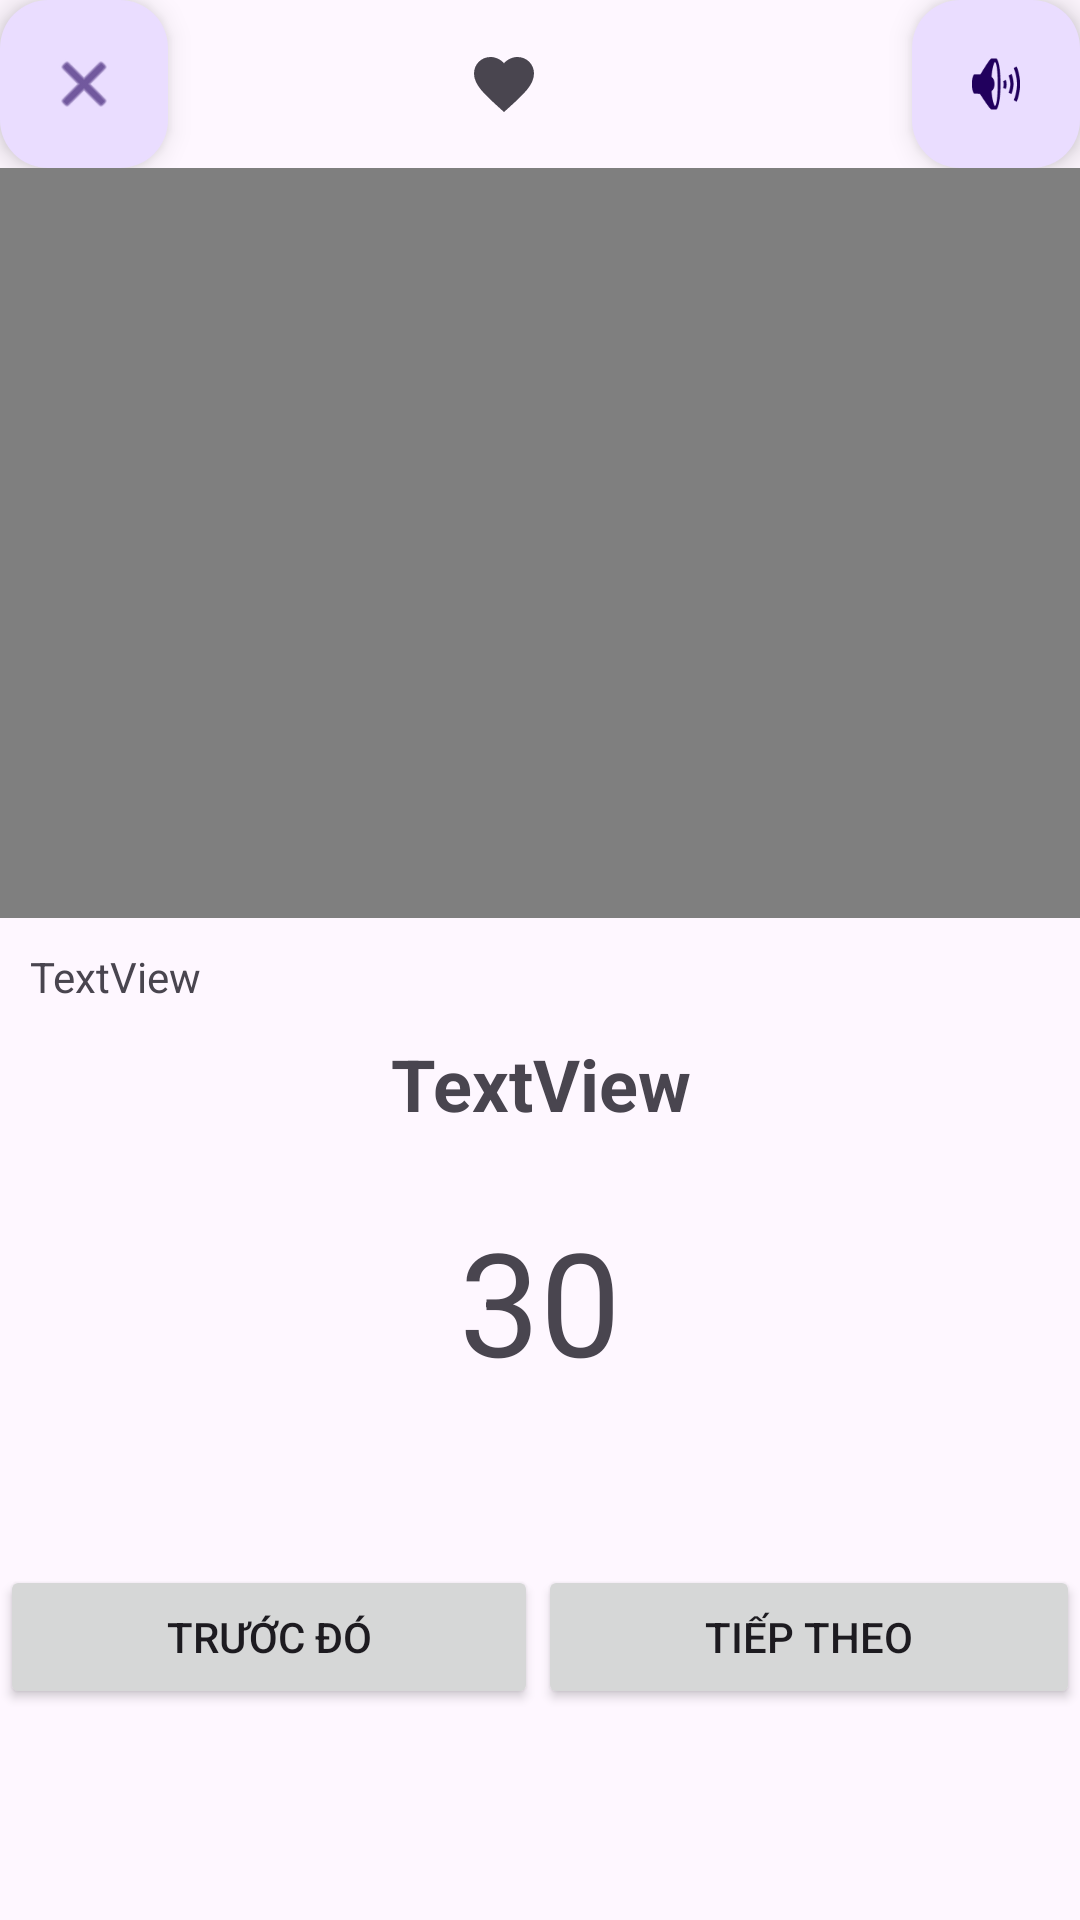

Icons on this 1080x1920 Android screen, each with the point to tap as (x=x, y=y):
close clear cancel: (x=84, y=84)
heart checkbox: (x=504, y=84)
